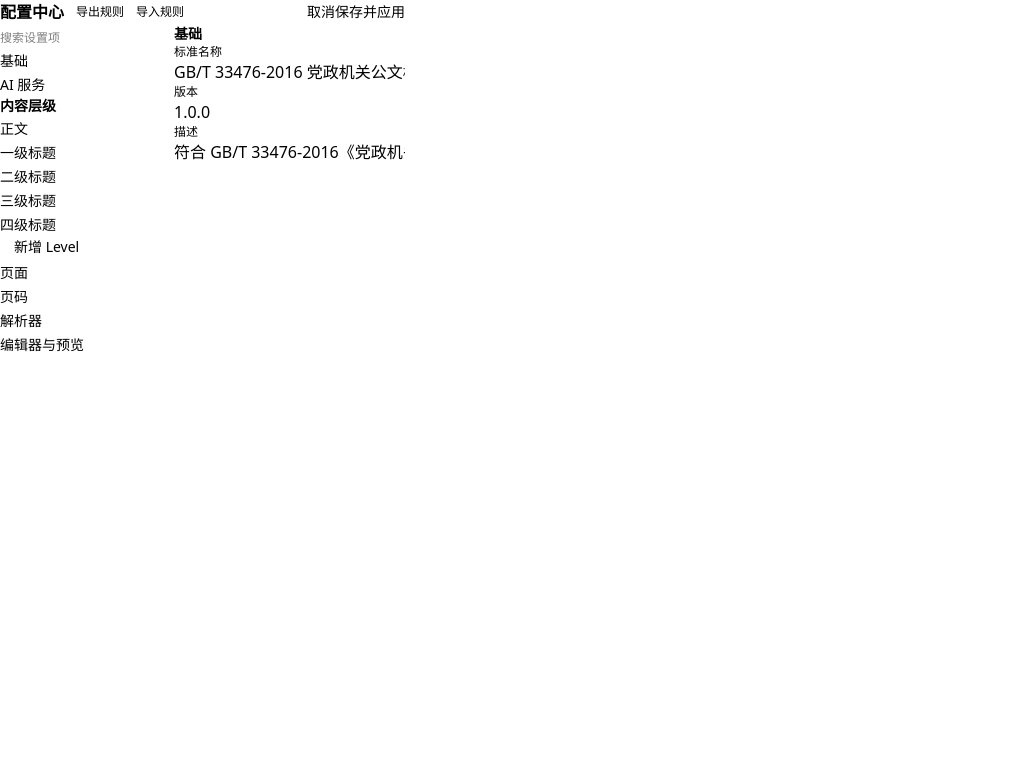
SettingsOverlay unsaved-changes guard › the discard dialog is a separate role from the overlay dialog
Click the button "编辑器与预览": (87, 345) x1=0 y1=335 x2=174 y2=355
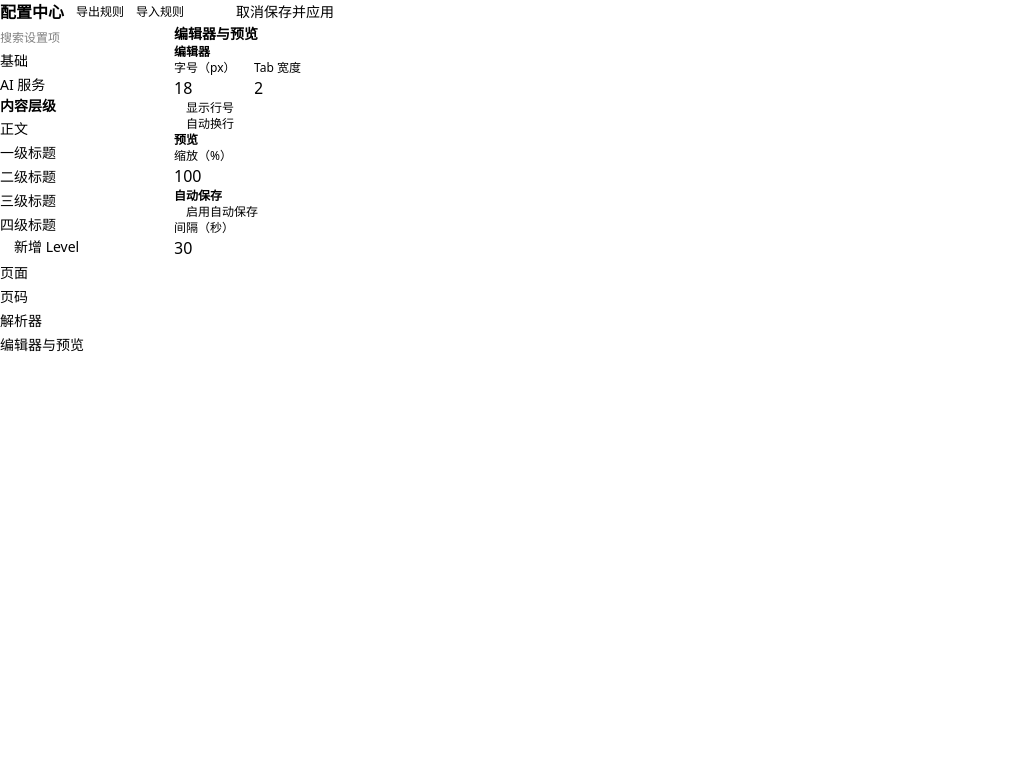
Replace the text in the number field showing "18" with "24": (214, 88) x1=174 y1=76 x2=254 y2=100
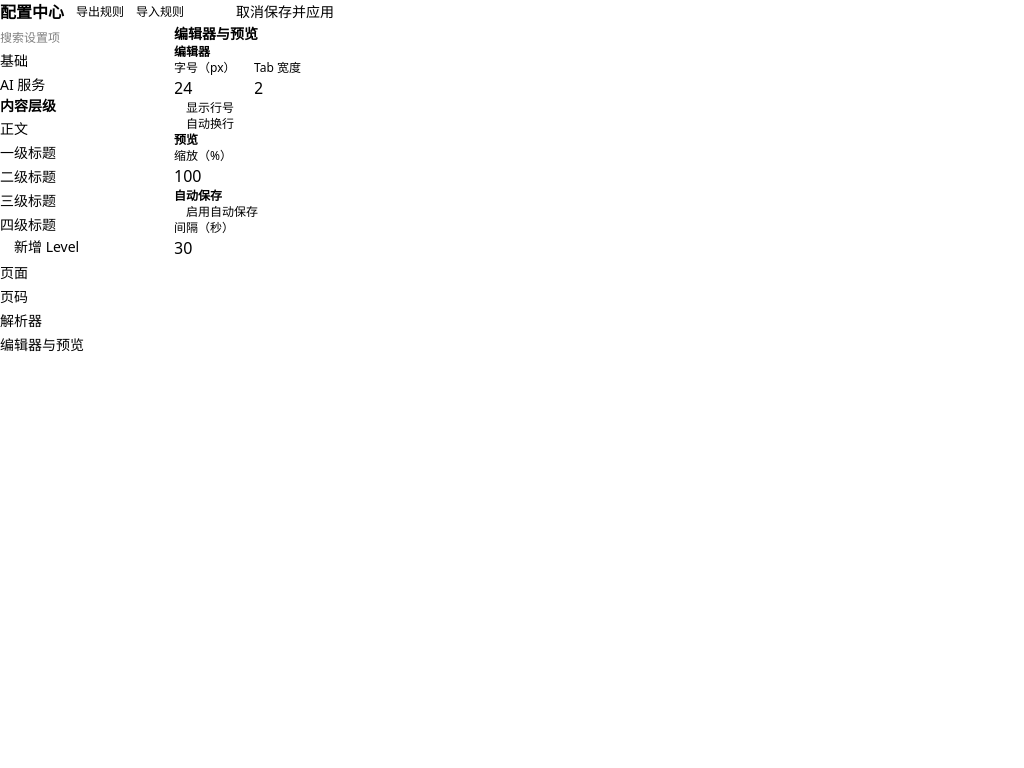
Click the button "取消": (250, 12) x1=236 y1=2 x2=264 y2=22
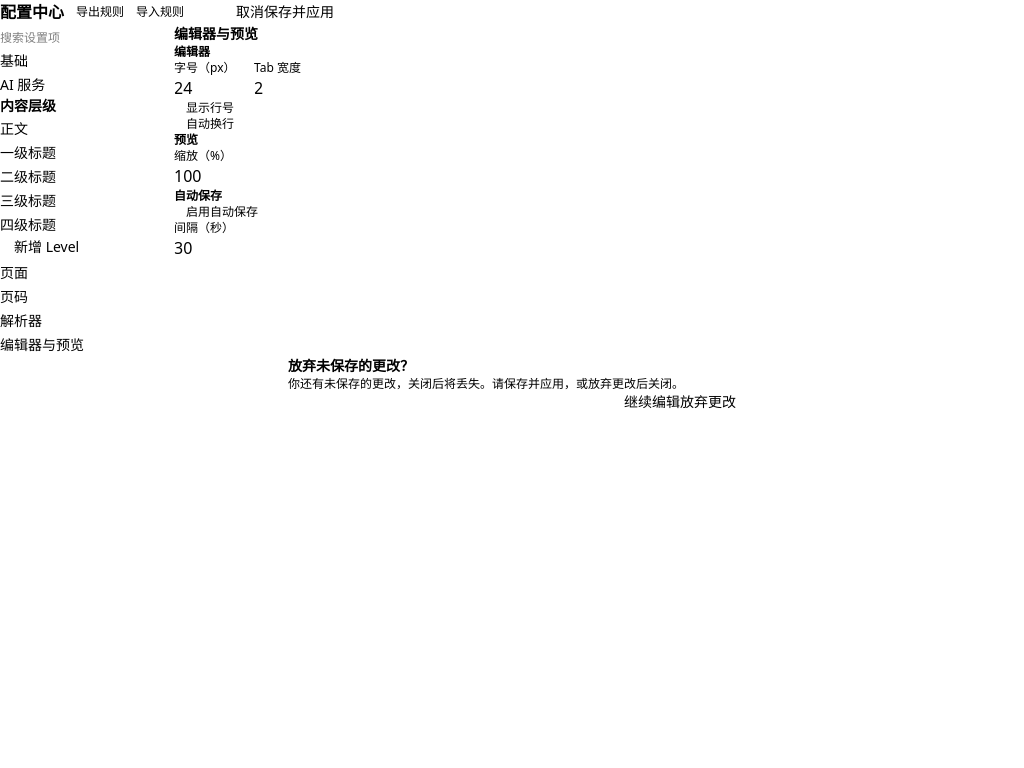
Expected: the dialog named "规则配置" is shown, x1=0 y1=0 x2=334 y2=356
Expected: the dialog "放弃未保存的更改？ 你还有未保存的更改，关闭后将丢失。请保存并应用，或放弃更改后关闭。 继续编辑 放弃更改" is shown, x1=288 y1=356 x2=736 y2=412
Expected: the heading "放弃未保存的更改？" is shown, x1=288 y1=356 x2=414 y2=375
